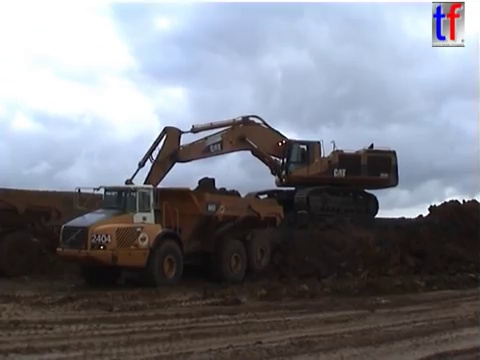excavator: (116, 112, 403, 243)
truck: (53, 174, 288, 287), (1, 185, 150, 280)
